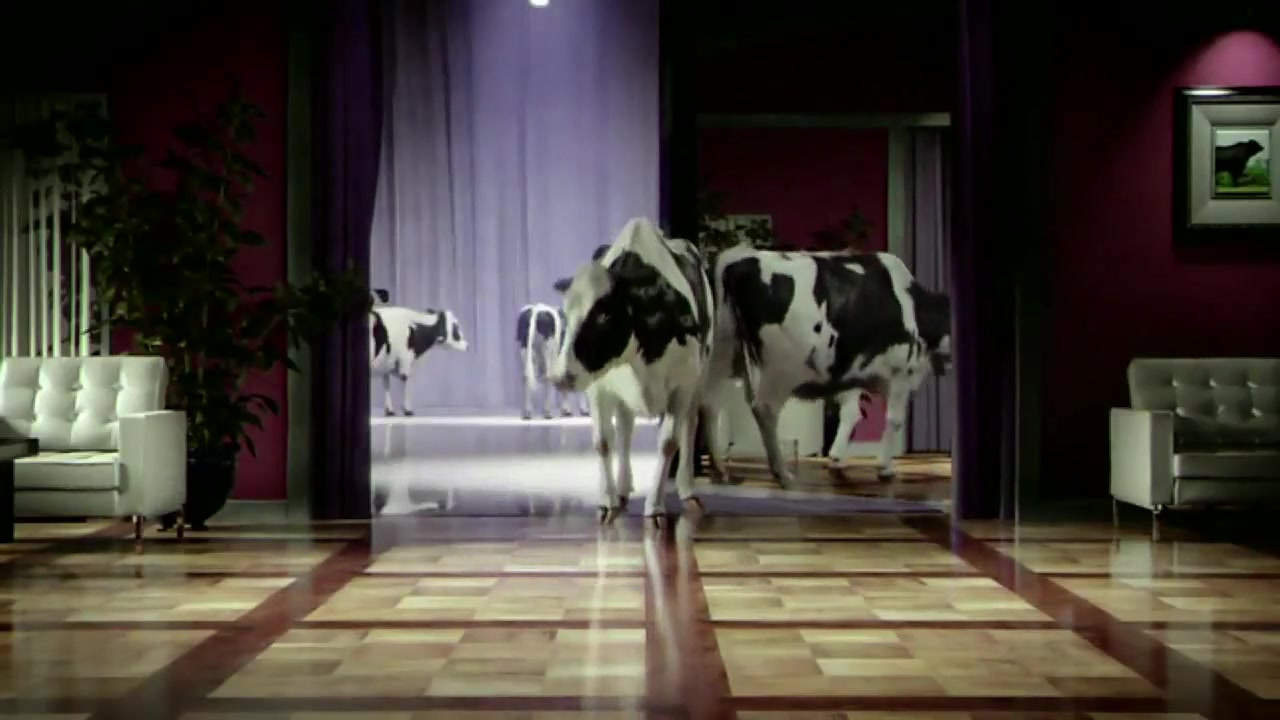cow: (548, 219, 719, 537)
